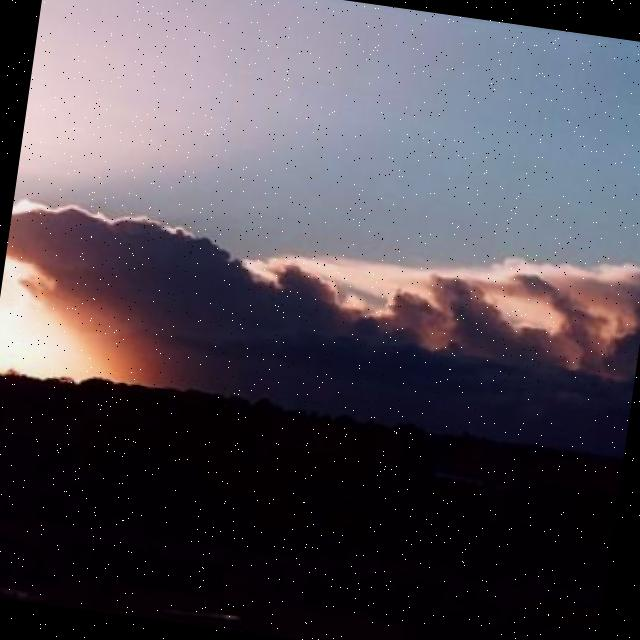Cb: (1, 125, 640, 443)
